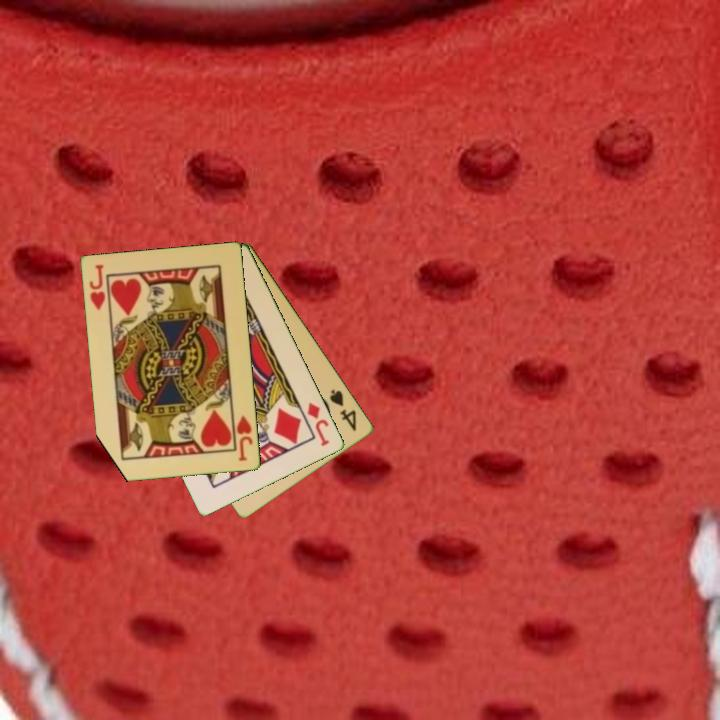4s: (326, 386, 360, 434)
Jd: (304, 399, 332, 449)
Jh: (233, 412, 256, 464), (86, 261, 109, 313)
